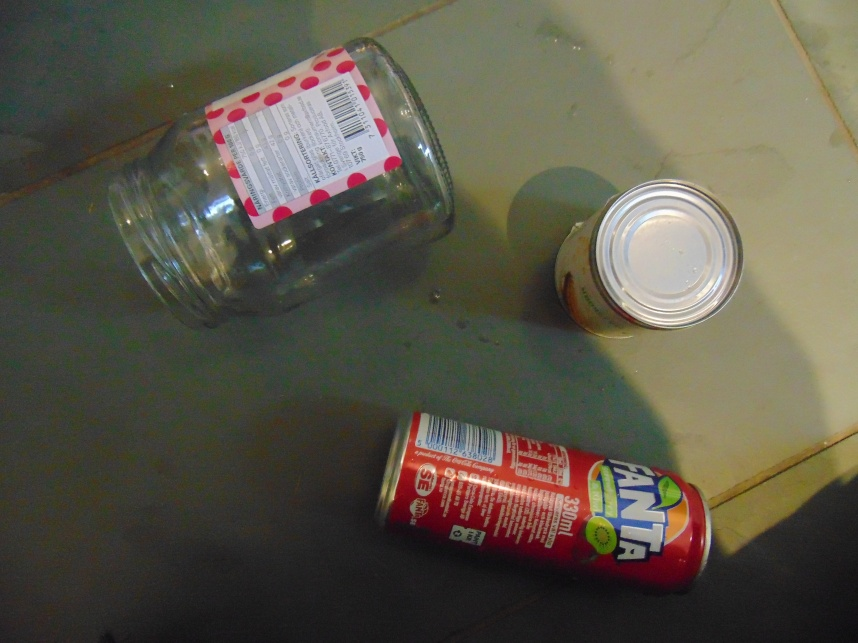glass_bottle: (105, 34, 457, 334)
metal_can: (371, 409, 712, 593), (553, 179, 745, 341)
